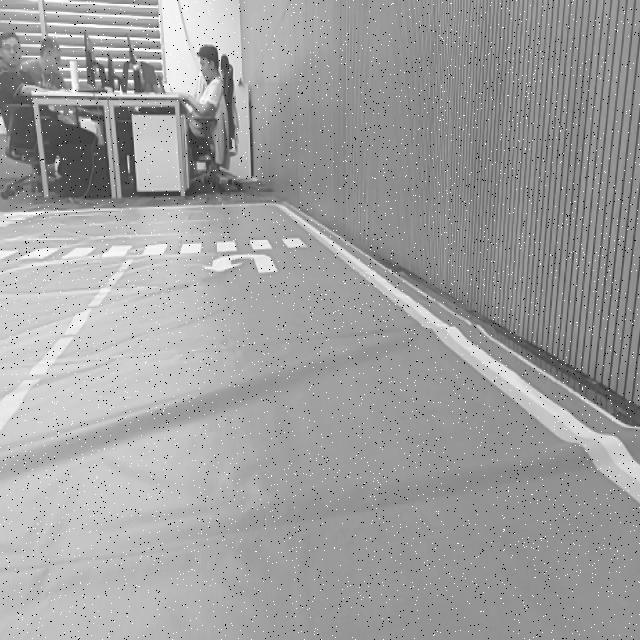left_lane: (0, 260, 134, 429)
right_lane: (279, 208, 640, 503)
